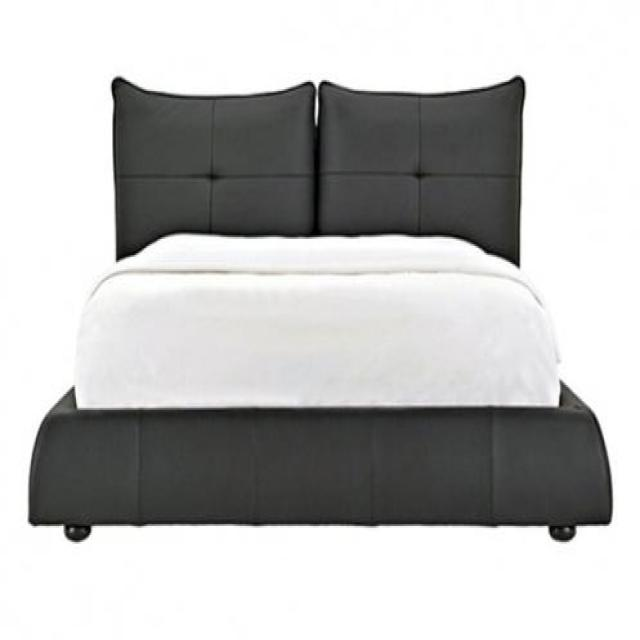bed: (26, 70, 606, 546)
